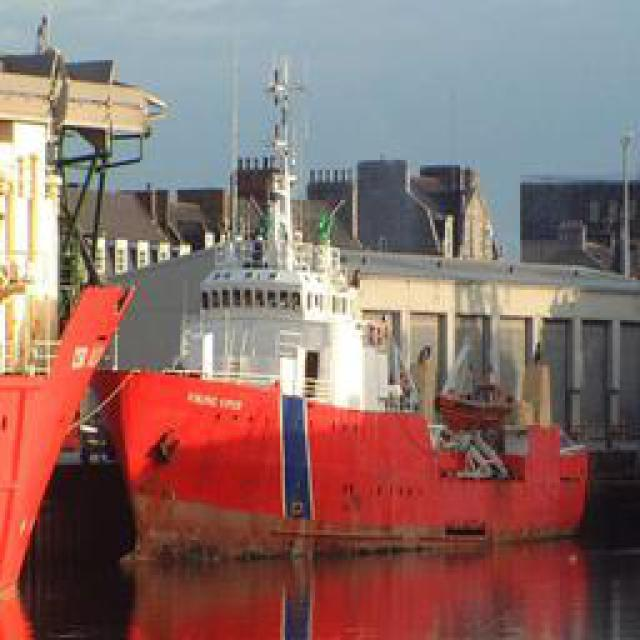Ship: (20, 45, 615, 613)
